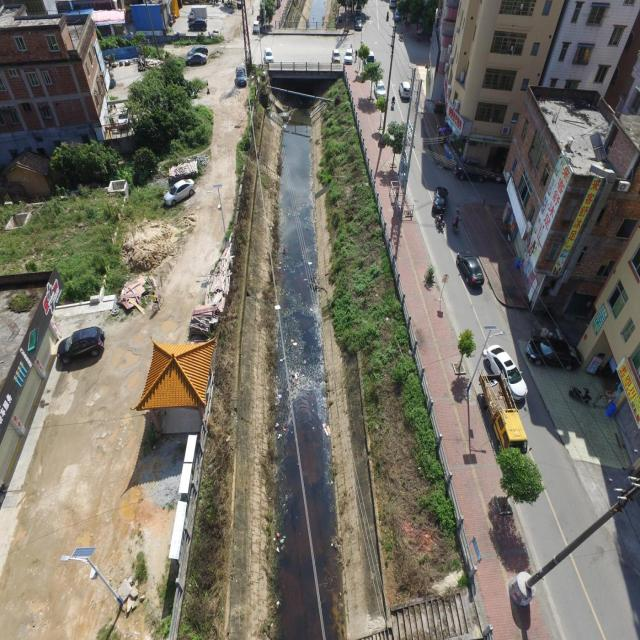car: (56, 325, 105, 364), (525, 336, 580, 370), (456, 251, 484, 287), (163, 178, 196, 207), (185, 46, 209, 66), (398, 80, 412, 100), (374, 80, 386, 100), (235, 66, 247, 86), (264, 48, 273, 64)
person: (508, 569, 536, 639)
tree: (494, 445, 545, 505), (382, 120, 406, 170), (452, 327, 476, 376), (362, 59, 383, 101), (375, 94, 387, 132), (422, 263, 436, 287)
